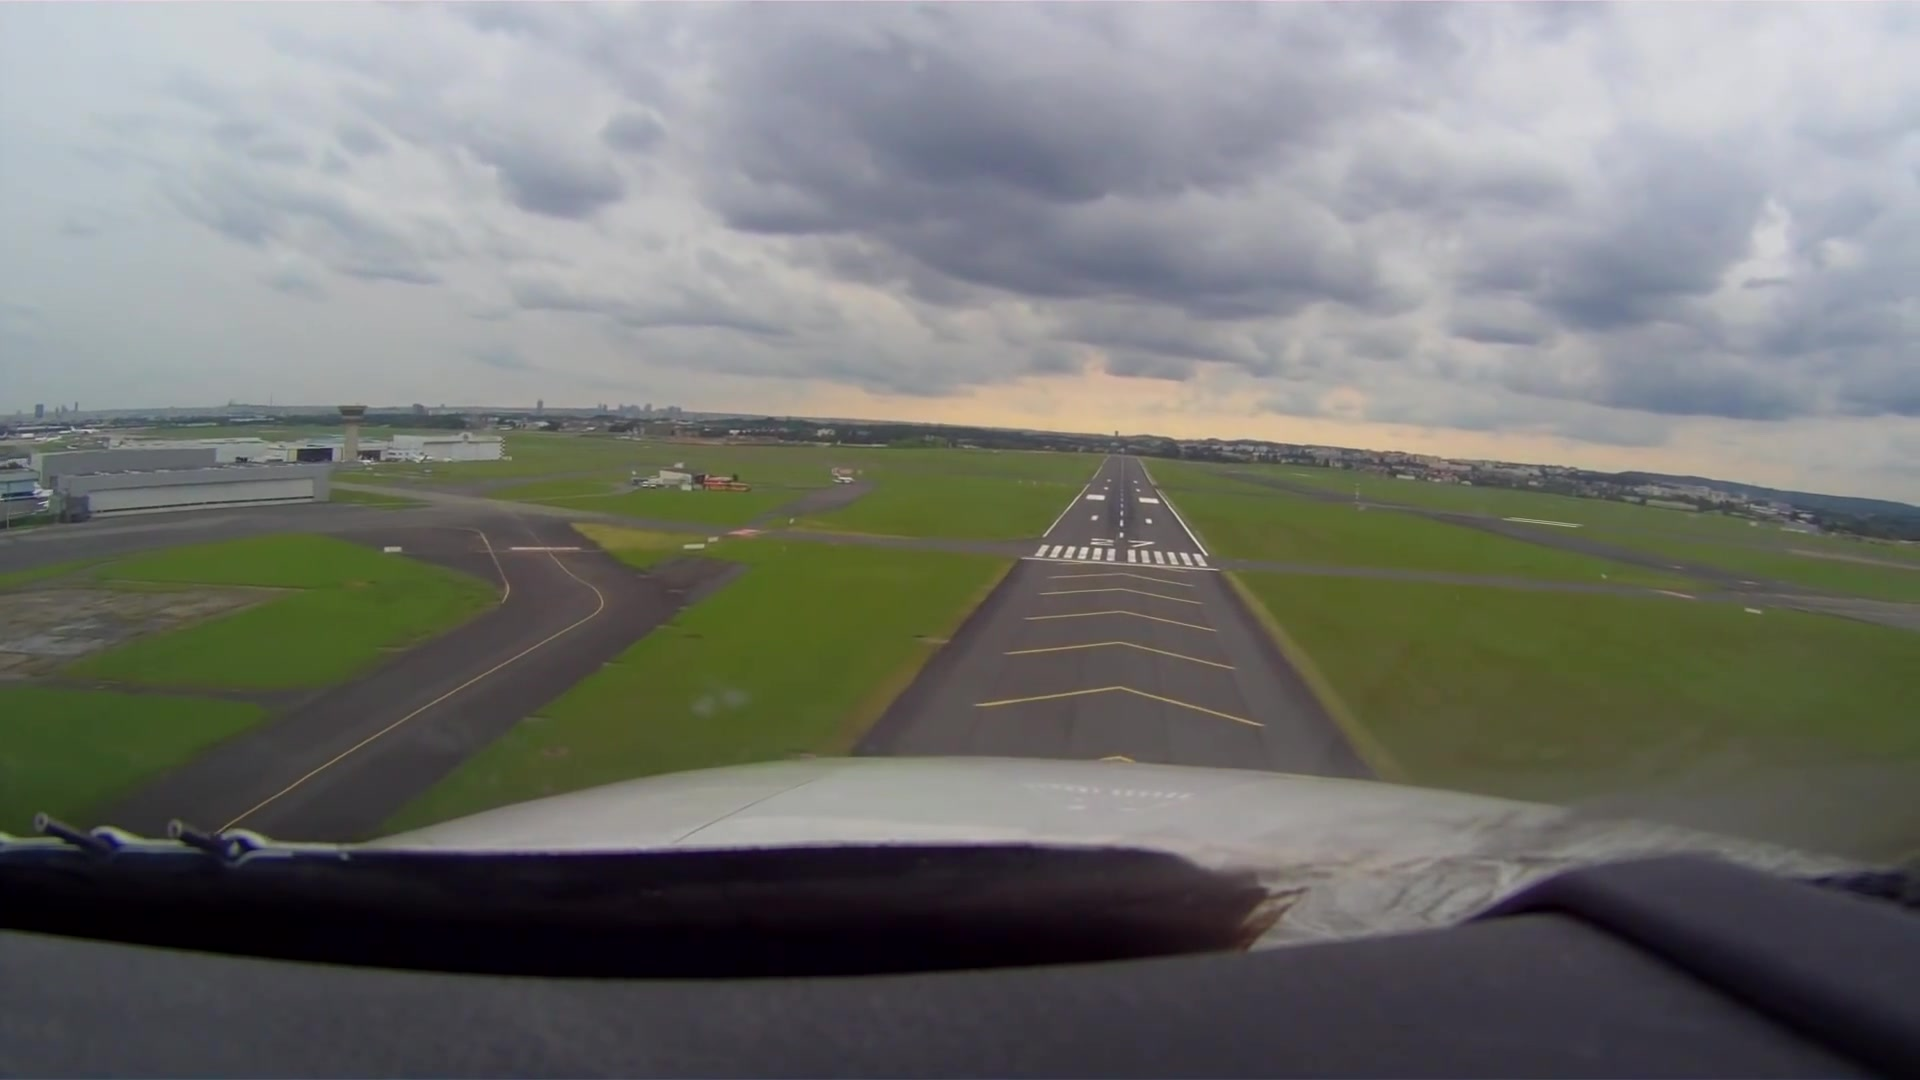entrance: (1035, 543, 1208, 567)
runway: (1015, 444, 1225, 578)
